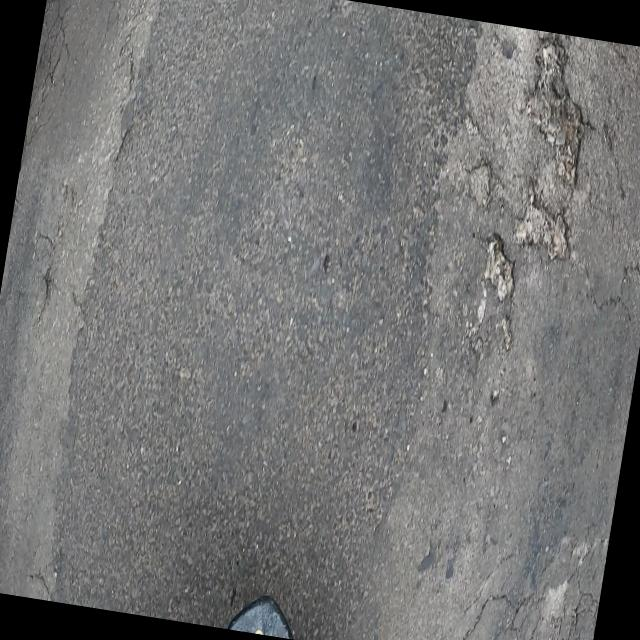Lubang: (527, 41, 582, 184), (514, 194, 567, 259), (486, 238, 516, 301), (470, 164, 490, 206)
